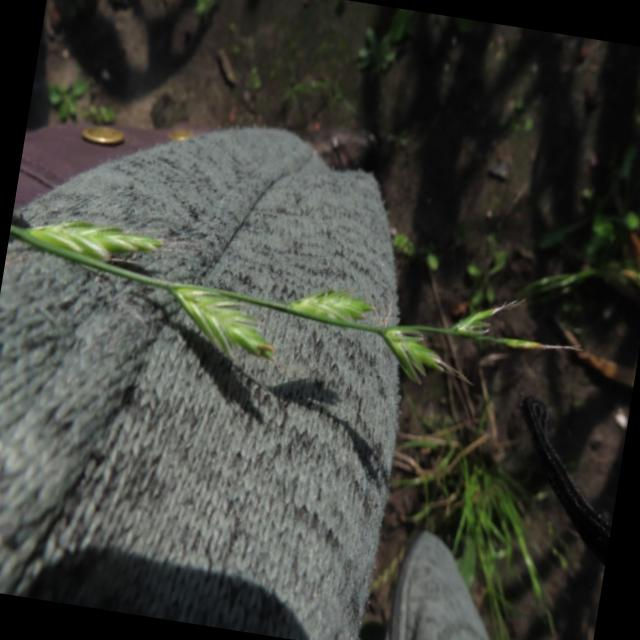Lolium: (0, 202, 592, 420)
